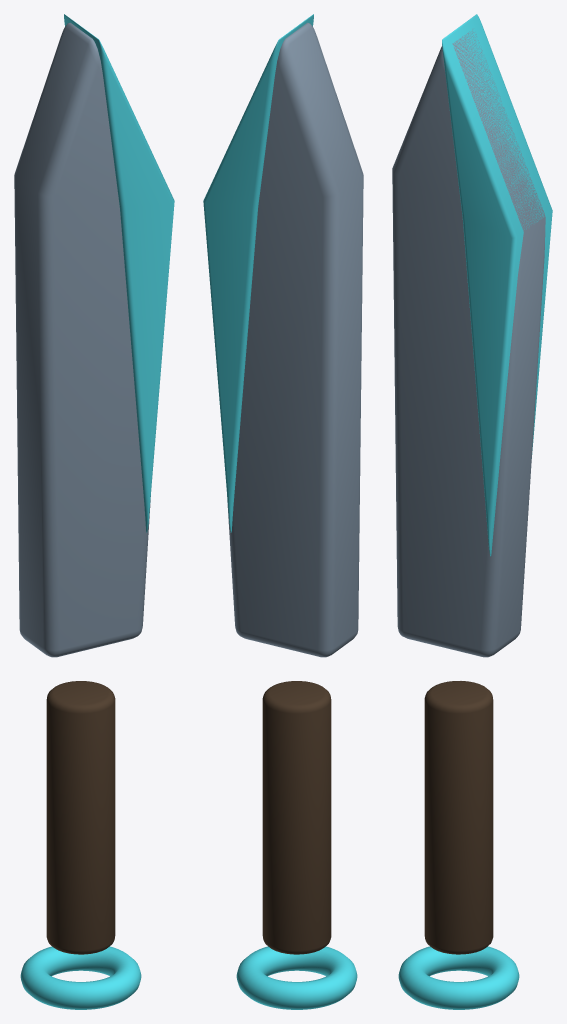
The model's file is dagger_v7.glb.
The picture shows the model from 3 angles, left to right: view 1: azimuth 30°, elevation 25°; view 2: azimuth 150°, elevation 25°; view 3: azimuth 330°, elevation 25°; orthographic projection.
Visible parts, largest first — view 1: BOOT_KNIFE_PRIMARY, GRIP_SECONDARY, BOOT_KNIFE_EDGE_ACCENT, POMMEL_ACCENT; view 2: BOOT_KNIFE_PRIMARY, GRIP_SECONDARY, BOOT_KNIFE_EDGE_ACCENT, POMMEL_ACCENT; view 3: BOOT_KNIFE_PRIMARY, BOOT_KNIFE_EDGE_ACCENT, GRIP_SECONDARY, POMMEL_ACCENT.
Boxes of the visible parts, x1,y1,x2,y2 form: BOOT_KNIFE_PRIMARY: (14,22,150,657); GRIP_SECONDARY: (46,681,115,954); BOOT_KNIFE_EDGE_ACCENT: (64,14,174,532); POMMEL_ACCENT: (20,946,141,1009); BOOT_KNIFE_PRIMARY: (227,22,363,657); GRIP_SECONDARY: (262,681,331,954); BOOT_KNIFE_EDGE_ACCENT: (203,14,313,532); POMMEL_ACCENT: (236,946,357,1009); BOOT_KNIFE_PRIMARY: (392,29,545,657); BOOT_KNIFE_EDGE_ACCENT: (442,14,552,556); GRIP_SECONDARY: (424,681,493,954); POMMEL_ACCENT: (398,946,519,1009).
Bounding box in the file's own units: 0.48 × 3.4 × 0.387.
